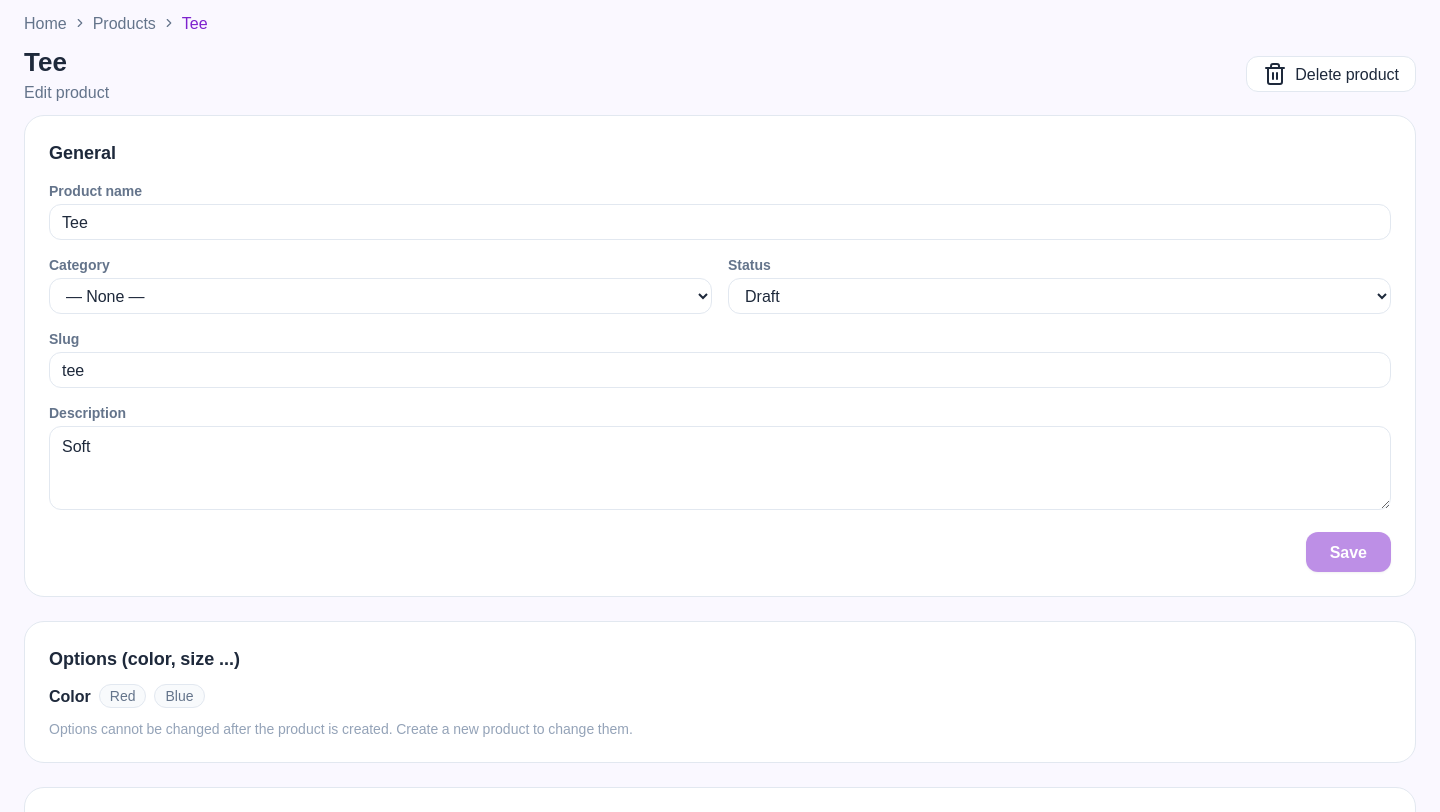
Test: ProductDetail: general information › Save is disabled until something changes, then PATCHes only the changed fields and shows the saved values
Expected: the button "Save" is disabled, [1306, 532, 1391, 572]
Step 1. Replace the text in the field labelled "Product name" with "Tee 2" → x=720, y=222, box [49, 204, 1391, 240]
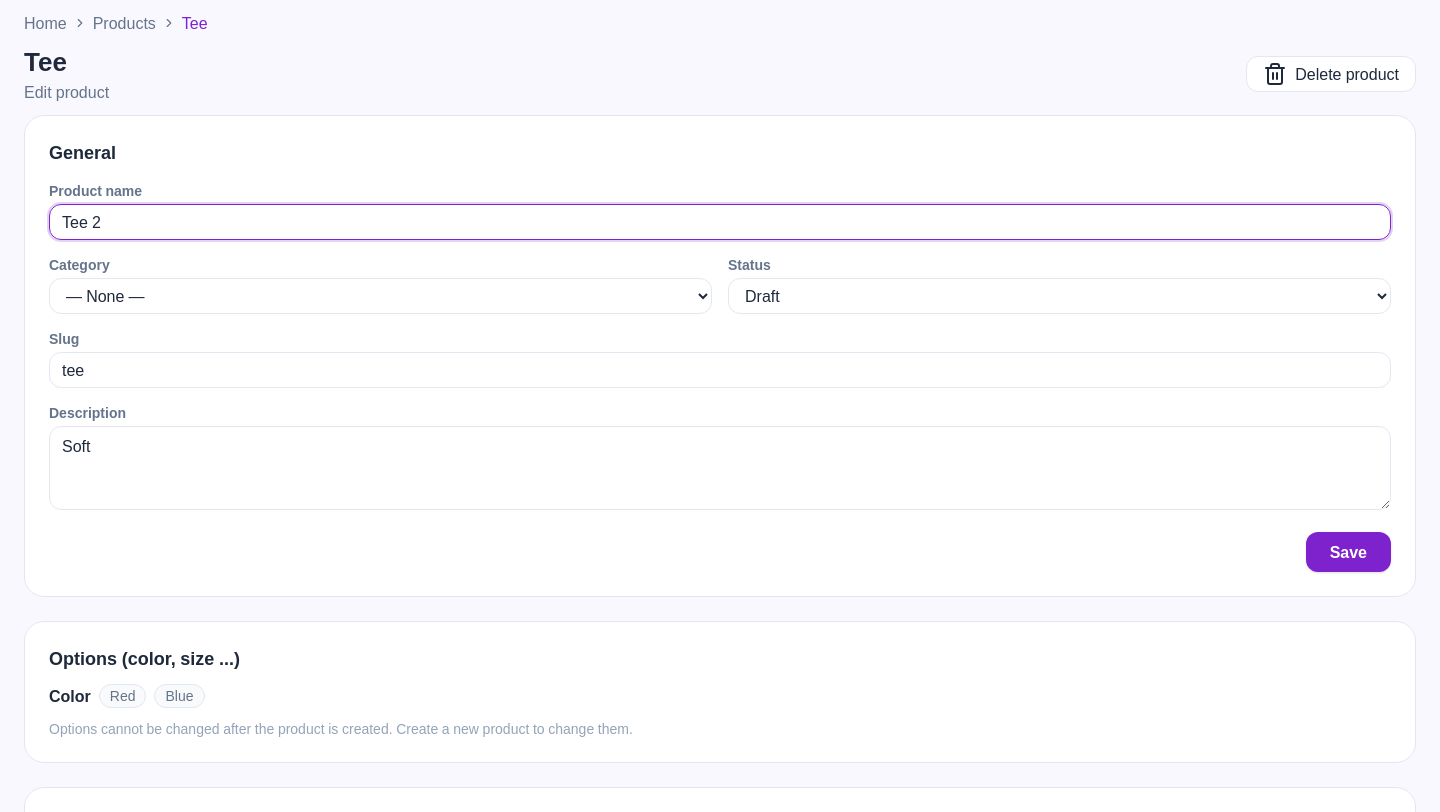
Step 2. Select "Active" in the dropdown labelled "Status" → x=1060, y=296, box [728, 278, 1391, 314]
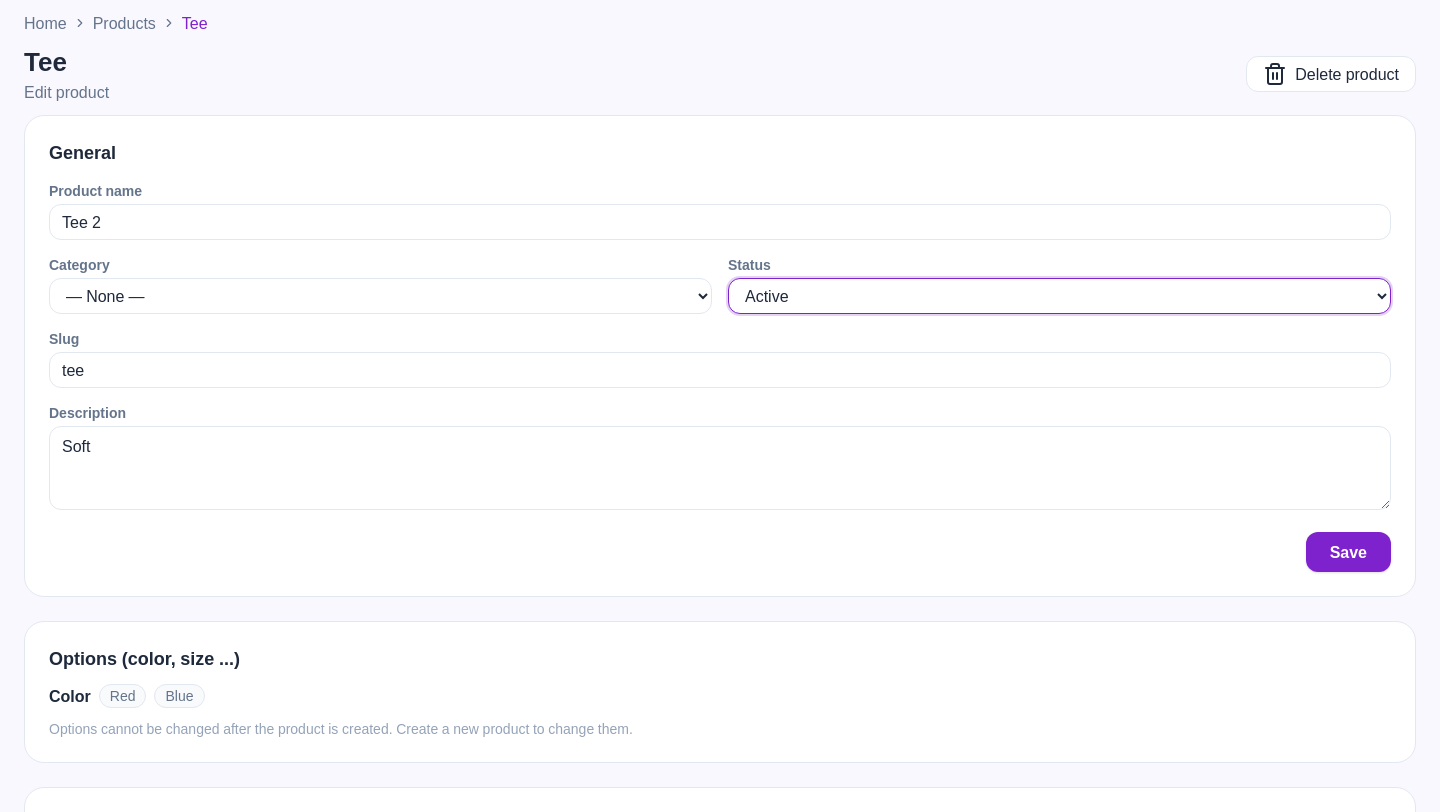
Step 3. Click the button "Save" → x=1348, y=552, box [1306, 532, 1391, 572]
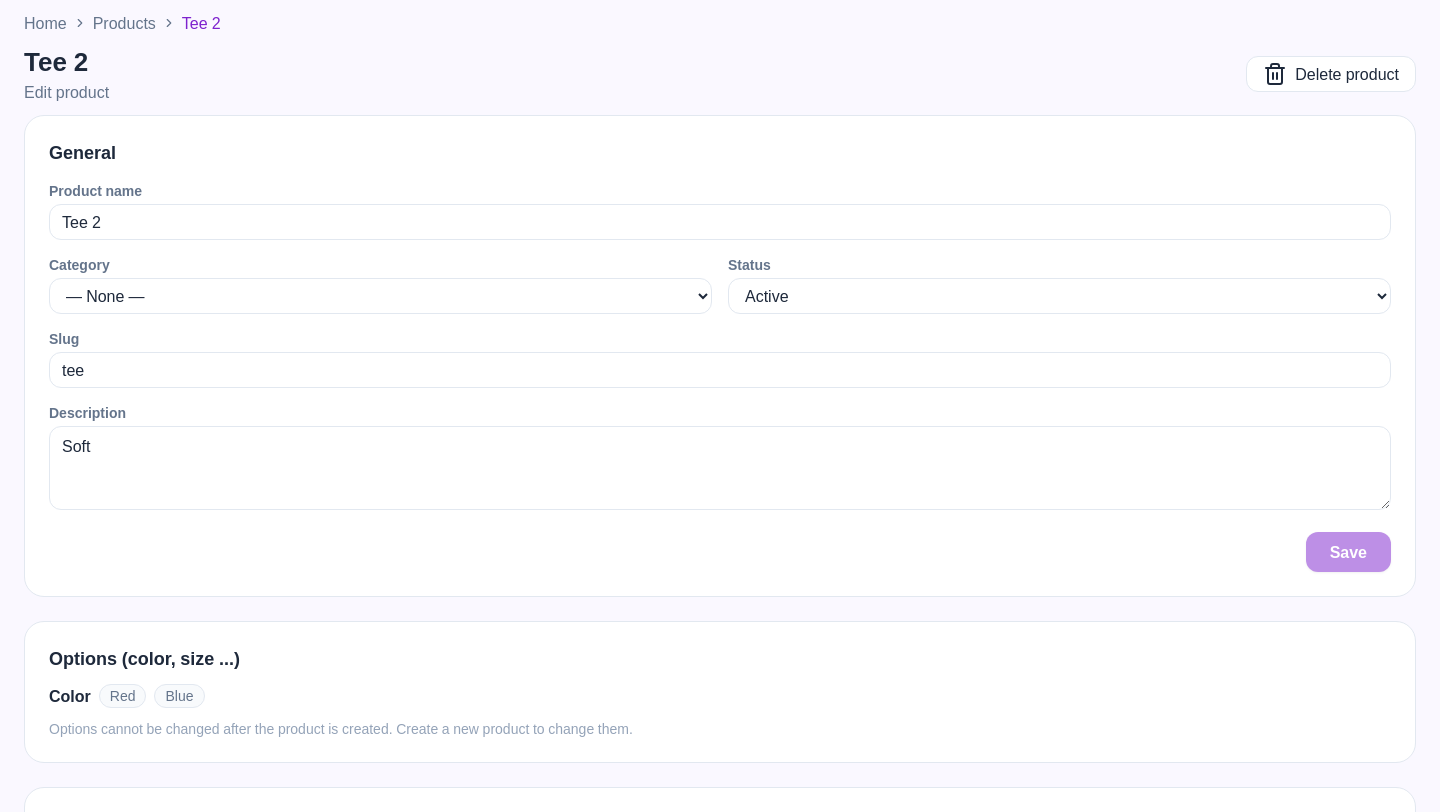
Expected: the heading "Tee 2" is shown, [24, 46, 88, 78]
Expected: the button "Save" is disabled, [1306, 532, 1391, 572]
